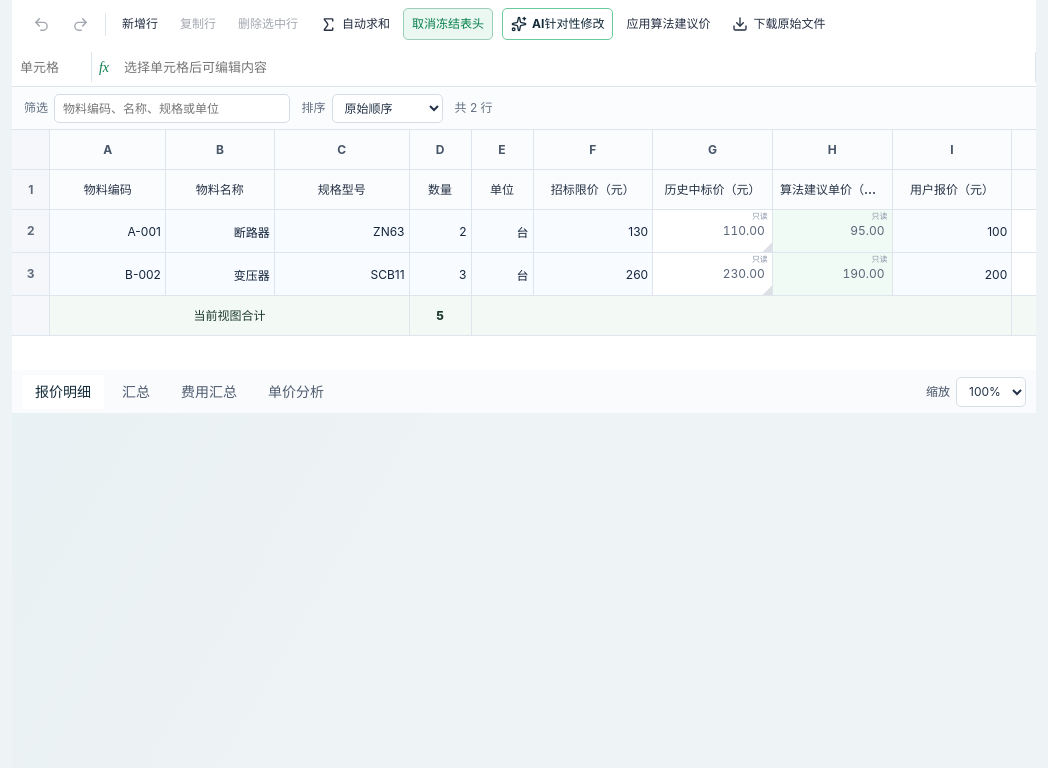
SpreadsheetMockEditor › calculates auto sum and renders all live worksheet views
This screenshot has width=1048, height=768.
Click the number field named "断路器数量". click: [440, 231]
box: [410,210,470,252]
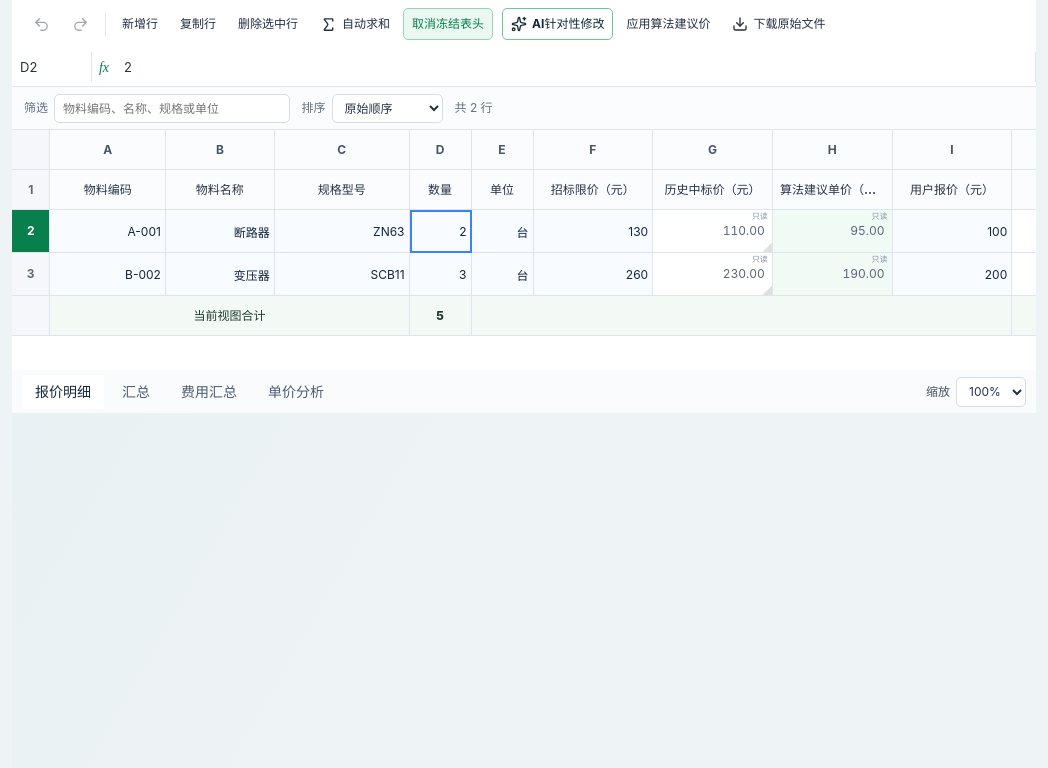
Click the button "自动求和". click: [355, 24]
box: [311,8,399,40]
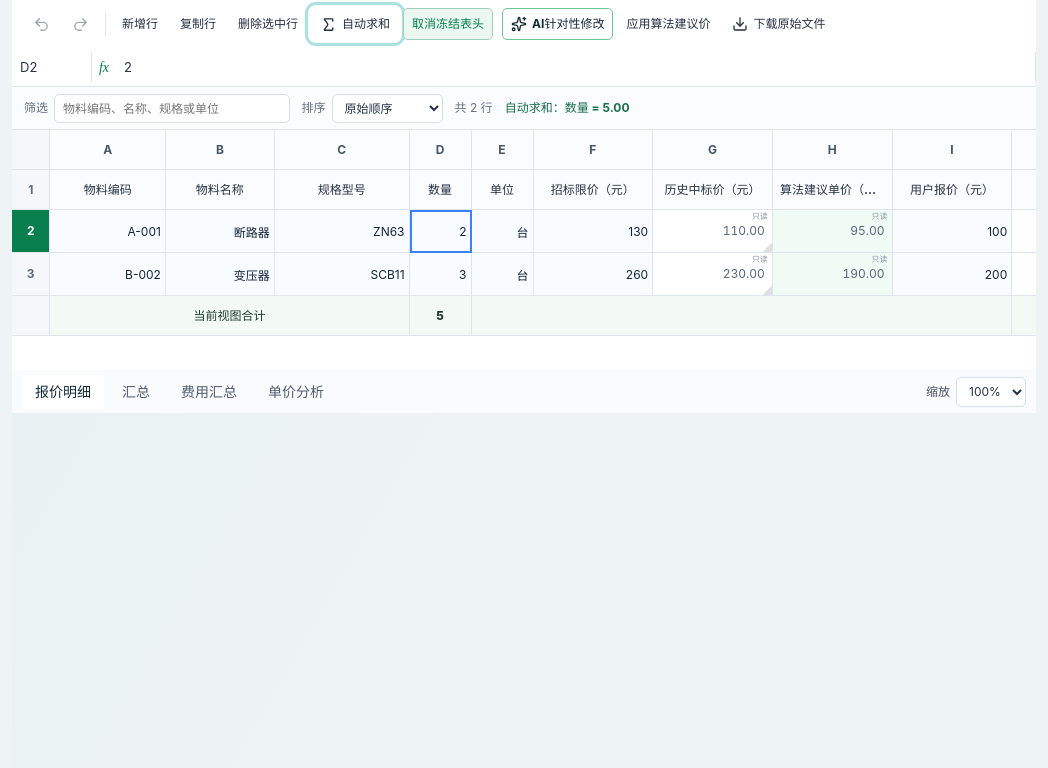
Expected: the text "自动求和：数量 = 5.00" is shown, [505,99,630,117]
Click the tab "汇总". click: [136, 392]
box: [109,374,163,408]
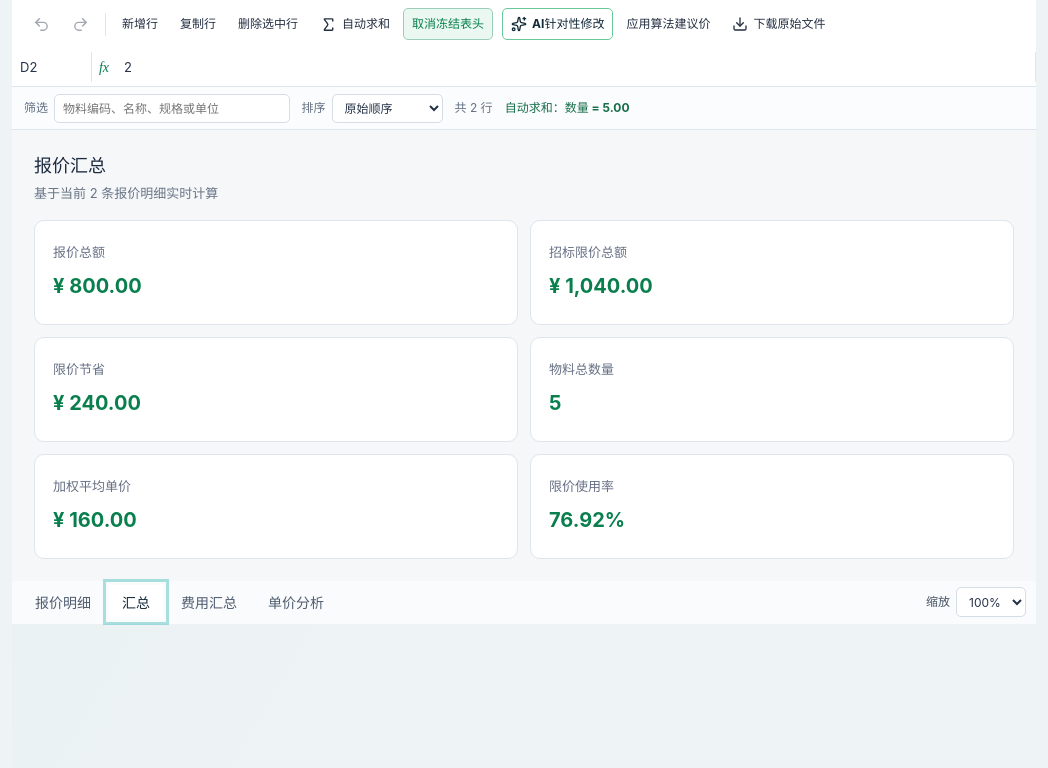
Expected: the panel "汇总" shows "¥ 800.00", [53,274,142,298]
Expected: the panel "汇总" shows "物料总数量", [549,361,614,377]
Click the tab "费用汇总". click: [209, 602]
box: [168,585,250,619]
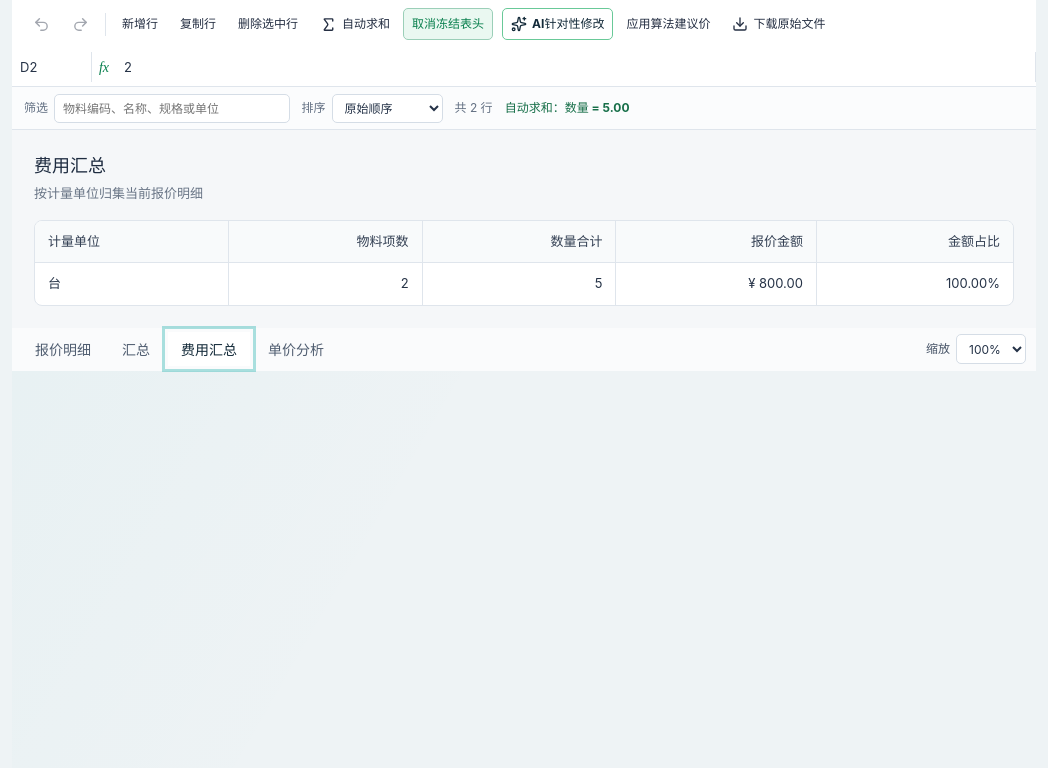
Expected: the panel "费用汇总" shows "计量单位", [48,232,100,248]
Expected: the panel "费用汇总" shows "¥ 800.00", [748,275,803,291]
Click the tab "单价分析". click: [296, 349]
box: [255,332,337,366]
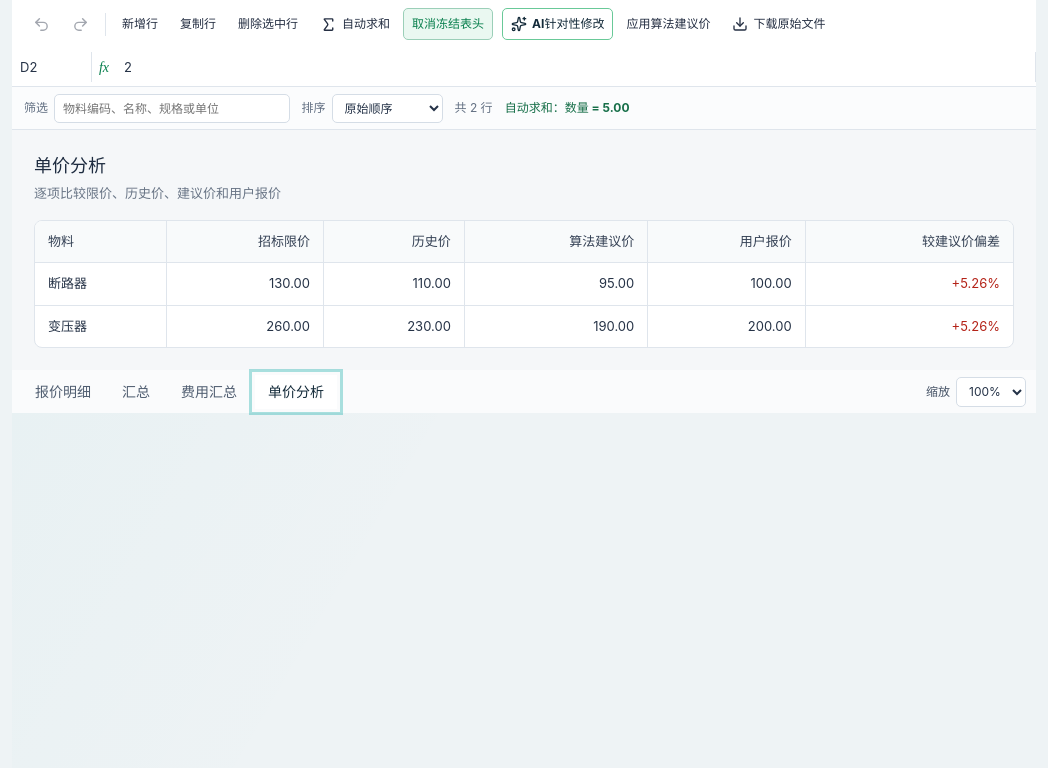
Expected: the panel "单价分析" shows "断路器", [48,275,87,291]
Expected: the panel "单价分析" shows "变压器", [48,318,87,334]
